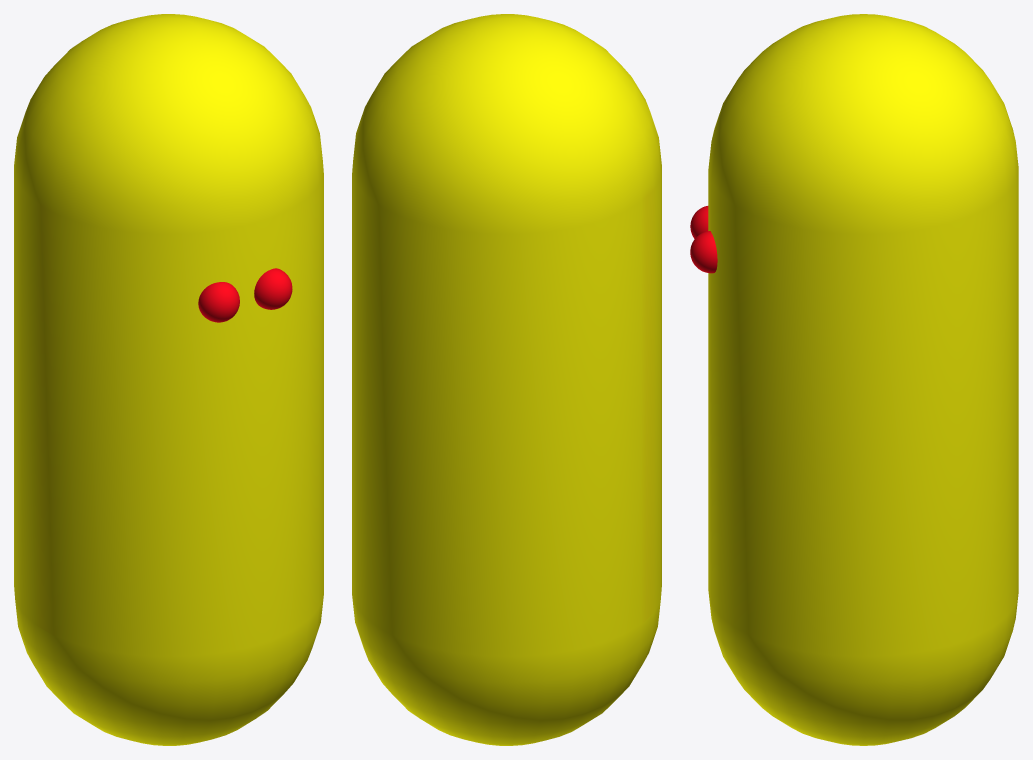
Rendered from EnemyCapsule.glb.
3 views of the same model, side by side, from view 1: azimuth 30°, elevation 25°; view 2: azimuth 150°, elevation 25°; view 3: azimuth 270°, elevation 25° (orthographic).
Visible parts, largest first — view 1: Sphere, Sphere.001, Sphere.002; view 2: Sphere; view 3: Sphere, Sphere.002.
Part boxes in pixels (x1,y1,x2,y2): Sphere: (14,14,323,745); Sphere.001: (198,282,239,322); Sphere.002: (254,268,292,309); Sphere: (352,14,661,745); Sphere: (708,14,1018,745); Sphere.002: (690,231,717,273).
Size of the model in its own units: 2 by 5 by 2.12.
Materials: 2 (2 with a texture image).
